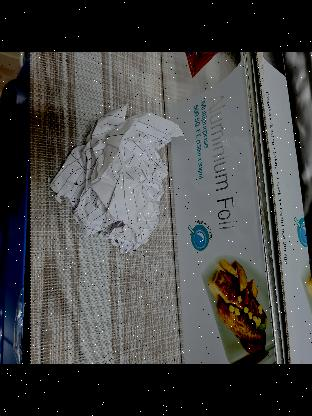Others: (53, 104, 168, 250)
